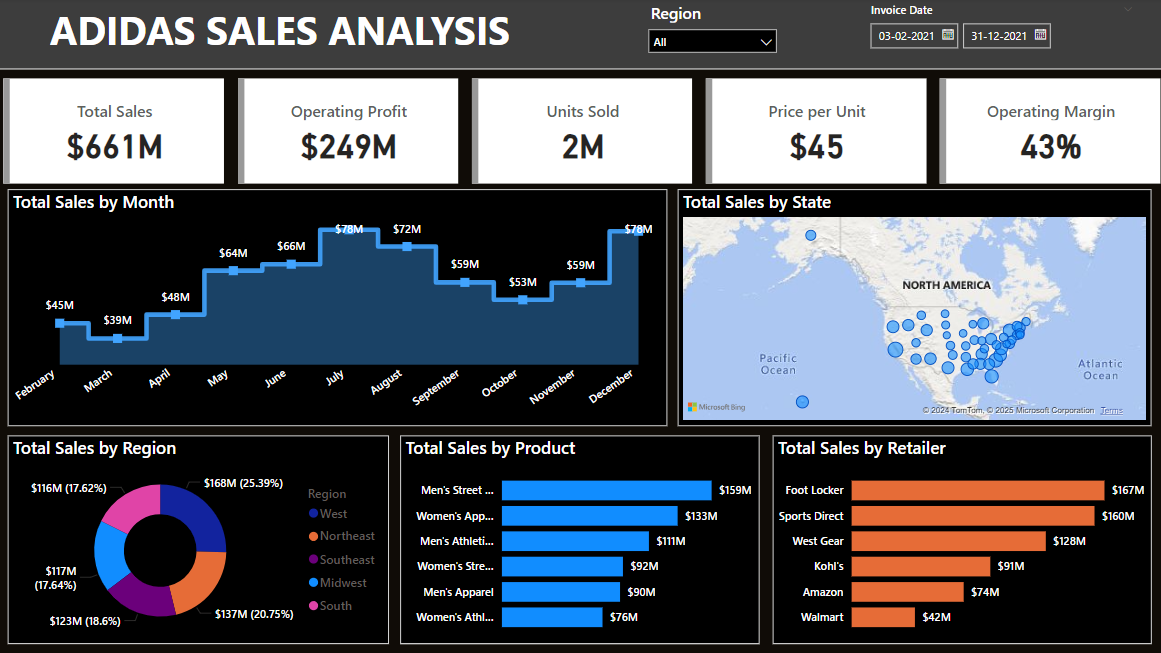

Layout of this report page (visuals, bound fields, positions):
{"tool":"powerbi","page":{"name":"Page 1","canvas":[1280,720],"ordinal":0},"visuals":[{"type":"shape","box":[0,0,1280,78.4],"z":0},{"type":"textbox","box":[51.4,0,527.1,78.6],"z":1000},{"type":"cardVisual","fields":{"Data":["Sum(Data Sales Adidas.Total Sales)","Sum(Data Sales Adidas.Operating Profit)","Sum(Data Sales Adidas.Units Sold)","Avg(Data Sales Adidas.Price per Unit)","Avg(Data Sales Adidas.Operating Margin)"]},"box":[0,84.2,1280,125.8],"z":2000},{"type":"areaChart","title":"Total Sales by Month","fields":{"Category":["Data Sales Adidas.Invoice Date.Variation.Date Hierarchy.Month"],"Y":["Sum(Data Sales Adidas.Total Sales)"]},"box":[10,210,724.3,260],"z":3000},{"type":"donutChart","fields":{"Category":["Data Sales Adidas.Region"],"Y":["Sum(Data Sales Adidas.Total Sales)"]},"box":[10,480,418.6,228.6],"z":4000},{"type":"barChart","title":"Total Sales by Product","fields":{"Category":["Data Sales Adidas.Product"],"Y":["Sum(Data Sales Adidas.Total Sales)"]},"box":[440,480,394.3,228.6],"z":5000},{"type":"barChart","title":"Total Sales by Retailer","fields":{"Category":["Data Sales Adidas.Retailer"],"Y":["Sum(Data Sales Adidas.Total Sales)"]},"box":[850,480,415.7,228.6],"z":6000},{"type":"slicer","fields":{"Values":["Data Sales Adidas.Region"]},"box":[702.9,0,161.4,78.6],"z":7000},{"type":"slicer","fields":{"Values":["Data Sales Adidas.Invoice Date"]},"box":[943.6,0,312.9,78.6],"z":8000},{"type":"map","title":"Total Sales by State","fields":{"Category":["Data Sales Adidas.State"],"Size":["Sum(Data Sales Adidas.Total Sales)"]},"box":[745.7,210,520,260],"z":9000}]}

Visuals, with their boxes in screenshot pixels (x1, y1, x2, y2), scaled from the page's 1280x720 canvas onto the 1161x653 screenshot:
shape: {"x1": 0, "y1": 0, "x2": 1160, "y2": 71}
textbox: {"x1": 47, "y1": 0, "x2": 525, "y2": 71}
cardVisual - Sum(Data Sales Adidas.Total Sales) x Sum(Data Sales Adidas.Operating Profit): {"x1": 0, "y1": 76, "x2": 1160, "y2": 190}
"Total Sales by Month" areaChart: {"x1": 9, "y1": 190, "x2": 666, "y2": 426}
donutChart - Data Sales Adidas.Region x Sum(Data Sales Adidas.Total Sales): {"x1": 9, "y1": 435, "x2": 389, "y2": 643}
"Total Sales by Product" barChart: {"x1": 399, "y1": 435, "x2": 757, "y2": 643}
"Total Sales by Retailer" barChart: {"x1": 771, "y1": 435, "x2": 1148, "y2": 643}
slicer - Data Sales Adidas.Region: {"x1": 638, "y1": 0, "x2": 784, "y2": 71}
slicer - Data Sales Adidas.Invoice Date: {"x1": 856, "y1": 0, "x2": 1140, "y2": 71}
"Total Sales by State" map: {"x1": 676, "y1": 190, "x2": 1148, "y2": 426}
